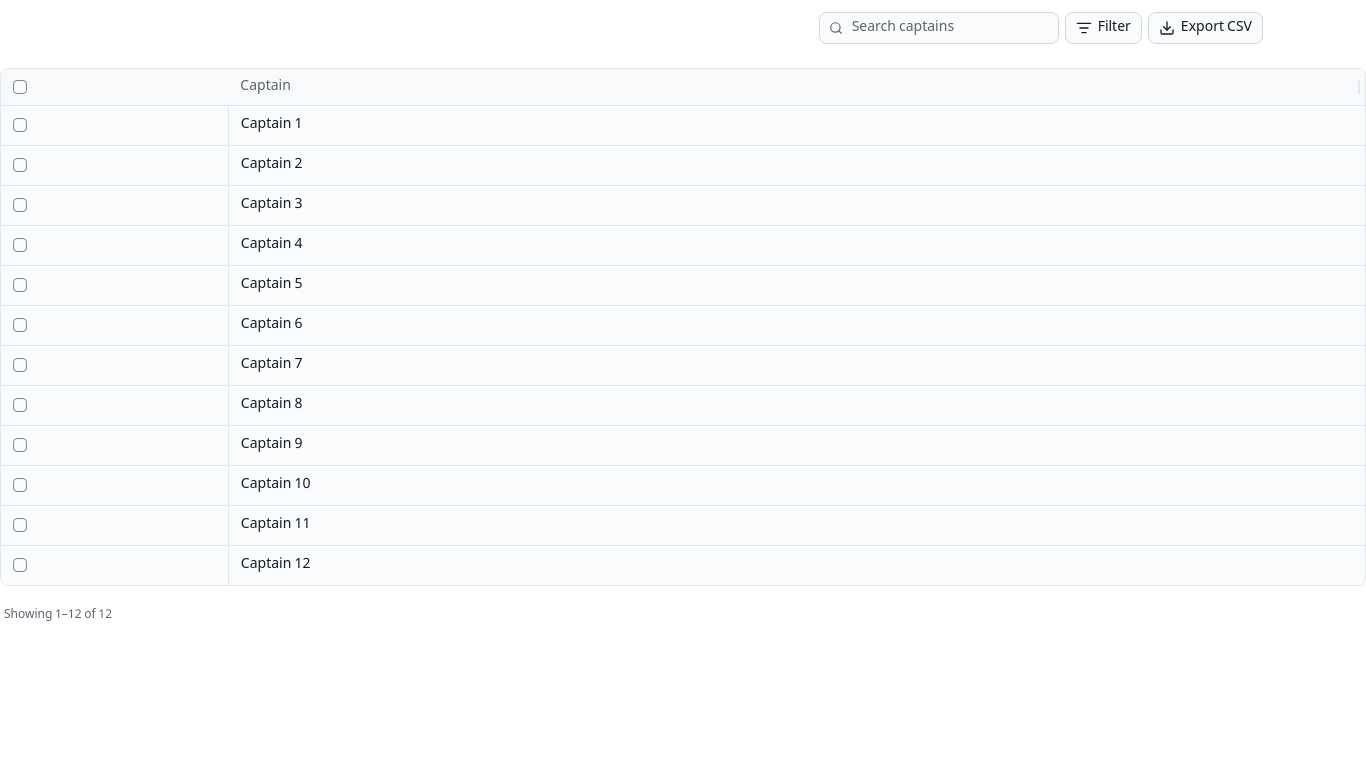
it: D21 — a bulk command is refused if any selected record would be › AC-960 — all three blocked: the `.all` sentence, and no escape hatch
This screenshot has width=1366, height=768.
Click the 1st checkbox named "Select row".
click(20, 125)  # box [13,118,27,132]
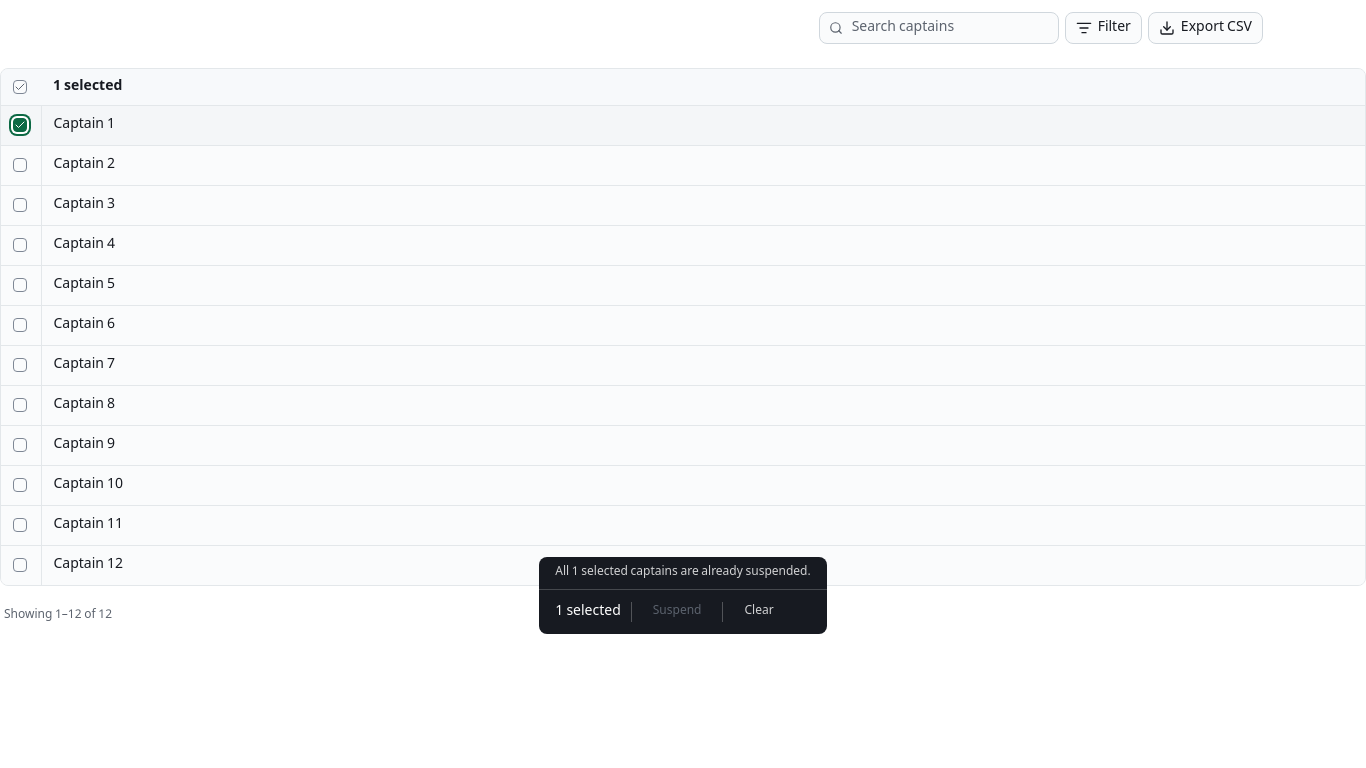
Click the checkbox named "Select row" next to "Captain 2".
click(20, 165)  # box [13,158,27,172]
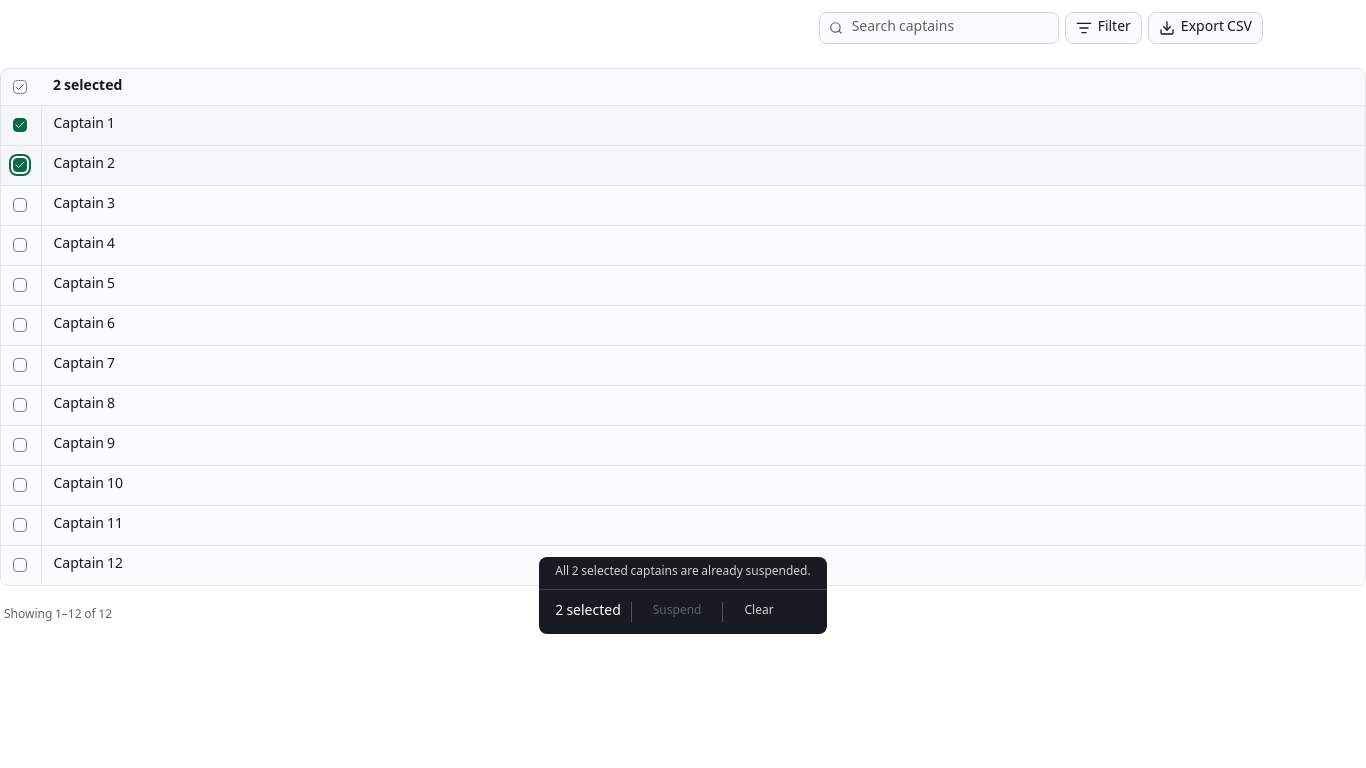
Click the checkbox named "Select row" next to "Captain 3".
click(20, 205)  # box [13,198,27,212]
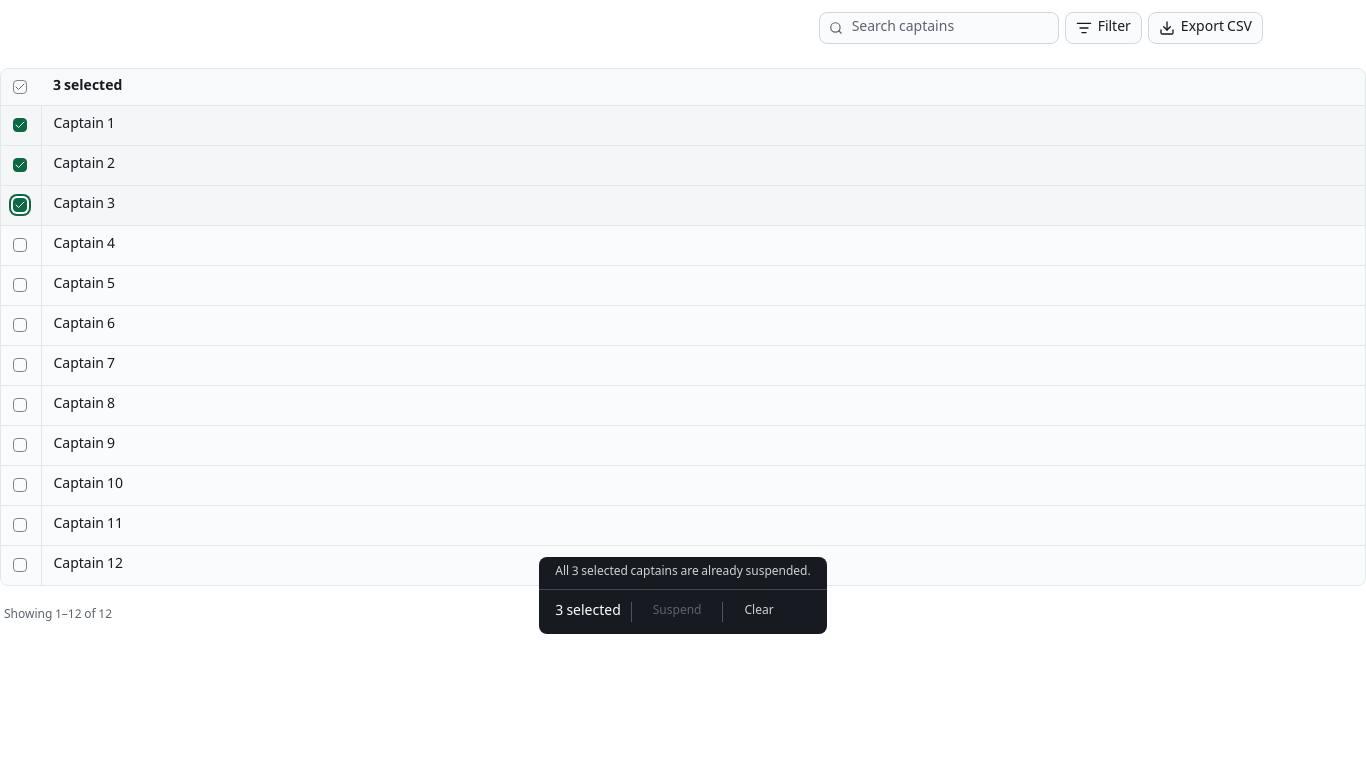
Expected: the button "Suspend" is disabled, [642,596,712,628]
Expected: the text "All 3 selected captains are already suspended." is shown, [555,565,811,581]
